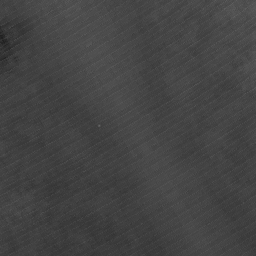Target: (95, 122, 103, 128)
